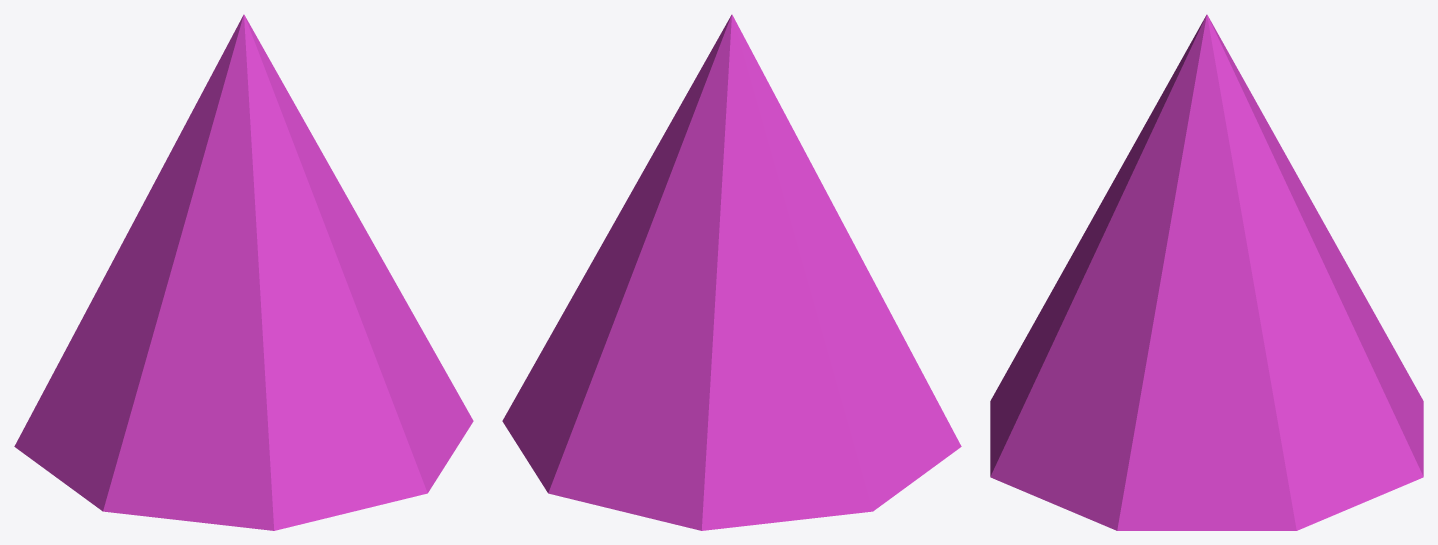
3 views of the same model, side by side, from view 1: azimuth 30°, elevation 25°; view 2: azimuth 150°, elevation 25°; view 3: azimuth 270°, elevation 25° (orthographic).
Parts seen in each view (by area): view 1: Cone; view 2: Cone; view 3: Cone.
Part boxes in pixels (box(x1,y1,x2,y2)): Cone: box(14, 14, 473, 530); Cone: box(502, 14, 961, 530); Cone: box(990, 14, 1423, 530).
Bounding box in the file's own units: 0.2563 × 0.2774 × 0.2563.
